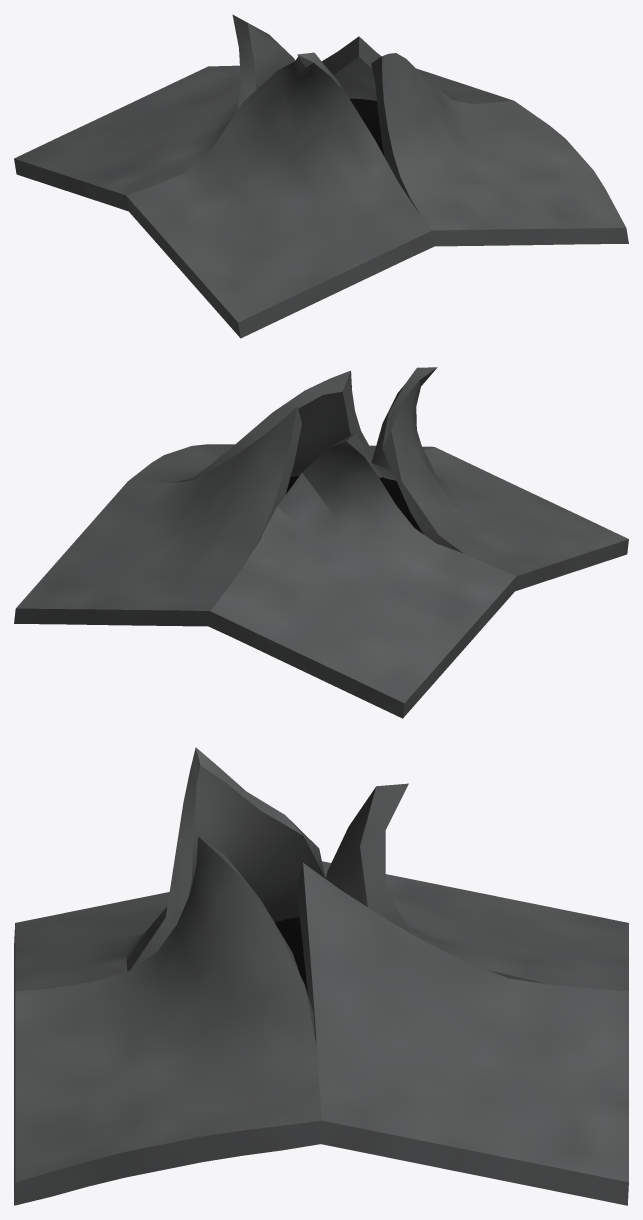
File: hull_breach 1.fbx
3 renders of one model, top to bottom at view 1: azimuth 30°, elevation 25°; view 2: azimuth 150°, elevation 25°; view 3: azimuth 270°, elevation 25°, orthographic. The views are drawn at different scales.
Visible parts, largest first — view 1: Plane.002, Plane.001; view 2: Plane.002, Plane.001; view 3: Plane.002, Plane.001.
Part boxes in pixels (left/top/right/bottom): Plane.002: left=14, top=14, right=628, bottom=338; Plane.001: left=350, top=98, right=384, bottom=156; Plane.002: left=14, top=367, right=628, bottom=718; Plane.001: left=285, top=476, right=423, bottom=534; Plane.002: left=14, top=747, right=628, bottom=1205; Plane.001: left=275, top=917, right=307, bottom=994.
Size of the model in its own units: 62.17 by 30.83 by 61.08.
